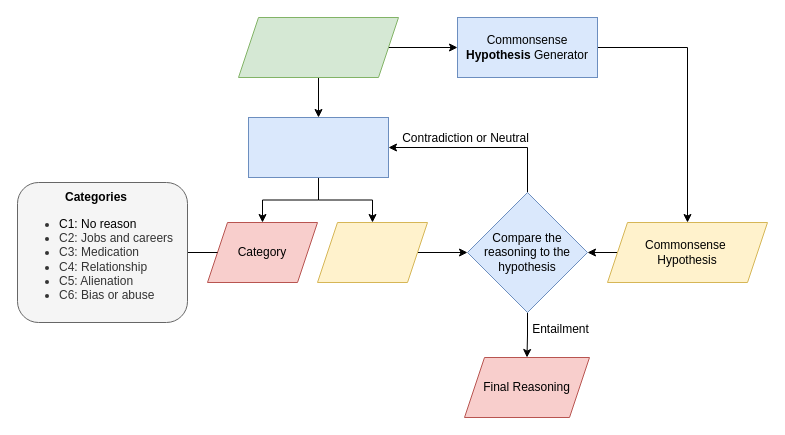
Image size: 785x435. Some labels were removed from this diagram. The shapes that lost their labels are listed below. From the top down, each one's box as (x1, y1, x2, y2) in pixels, then its label:
(238, 16, 398, 78): Input Premise (Employee Message)
(248, 116, 388, 178): Reasoning Generator
(316, 222, 428, 282): Reason
